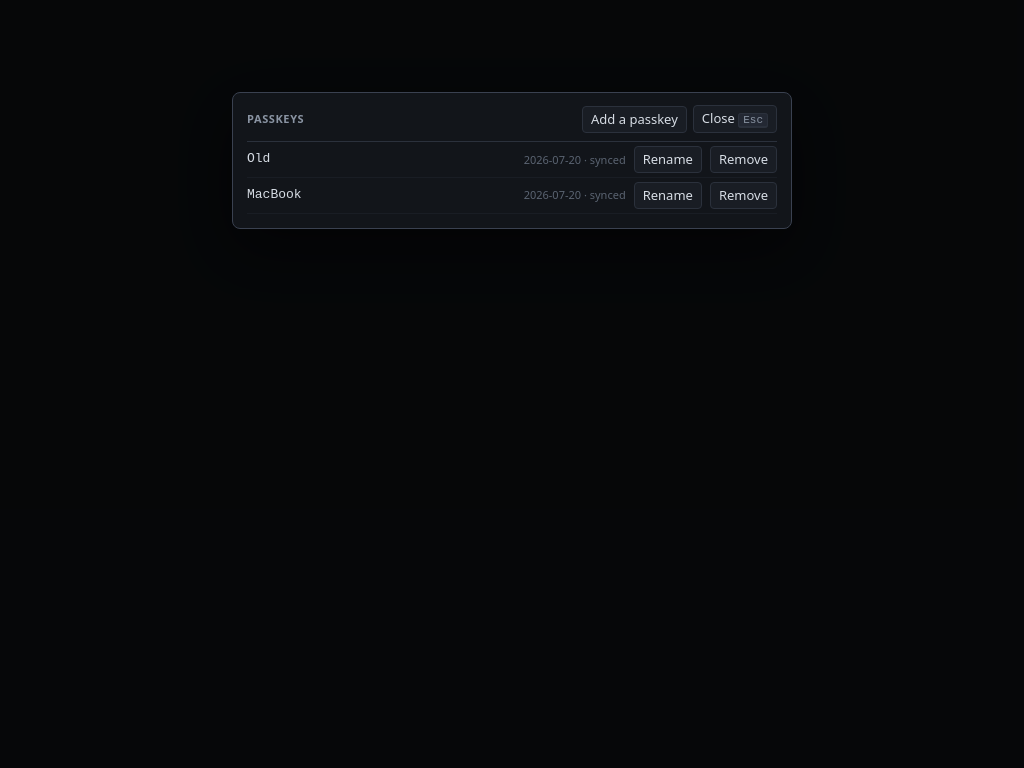
PasskeyManager › renames a credential and re-reads the list
Step 1. Click the button with test id "passkey-rename" in the row of "Old" → click(668, 160), box left=634, top=146, right=702, bottom=173
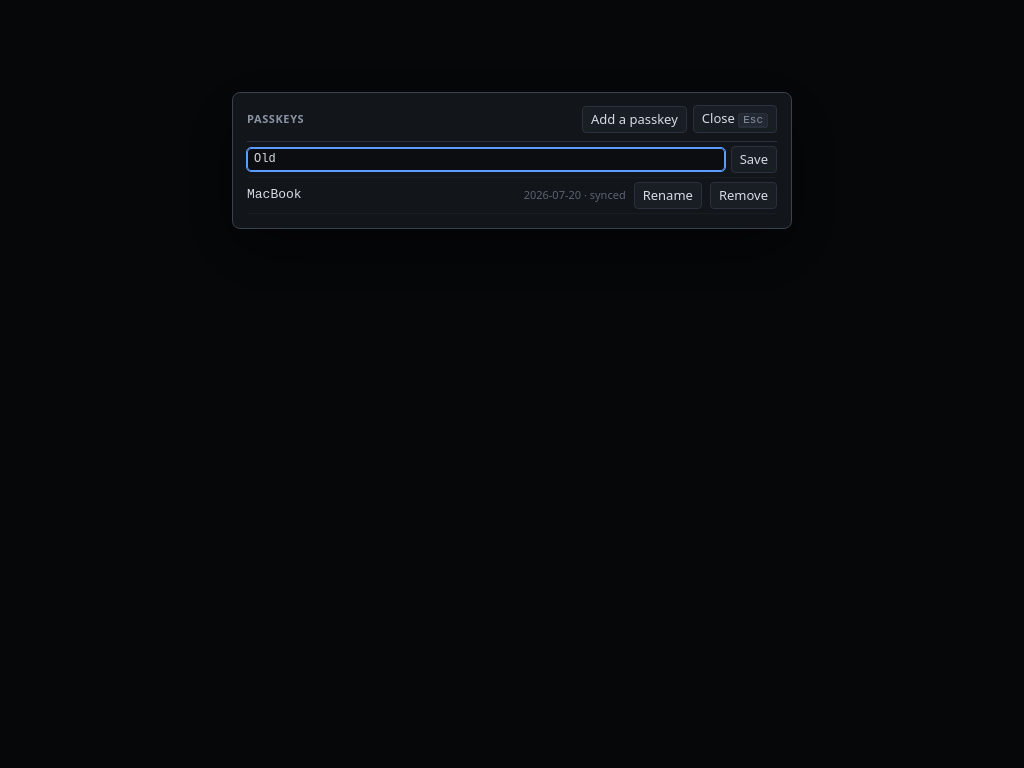
Step 2. Replace the text in the field with test id "passkey-name-input" with "Yubikey" → (486, 160), box left=247, top=148, right=725, bottom=171
Then press Enter
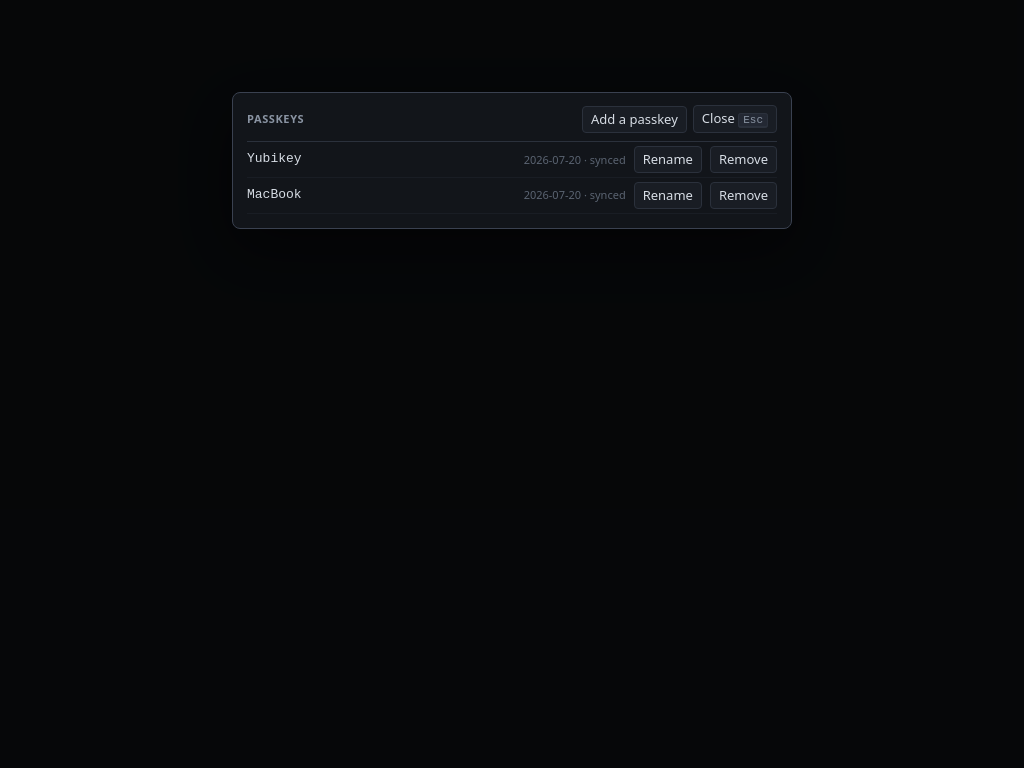
Expected: the text with test id "passkey-name" reads "Yubikey", left=247, top=151, right=302, bottom=166
